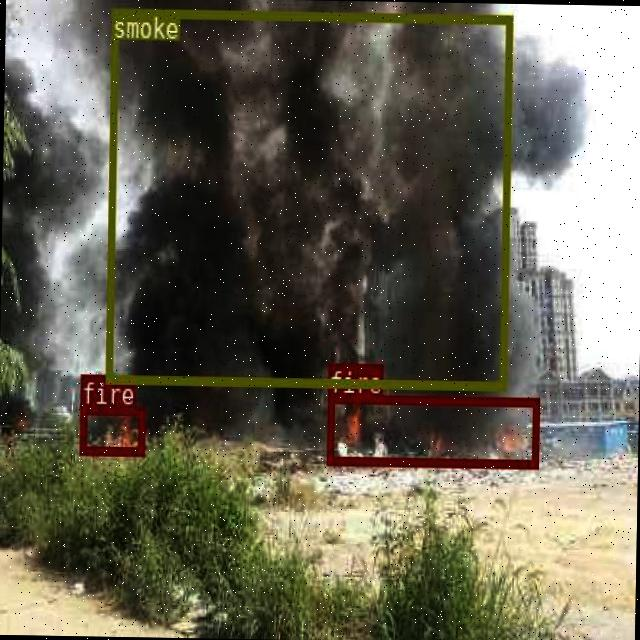fire: (325, 392, 538, 467), (78, 404, 143, 454)
smoke: (104, 8, 510, 390)
